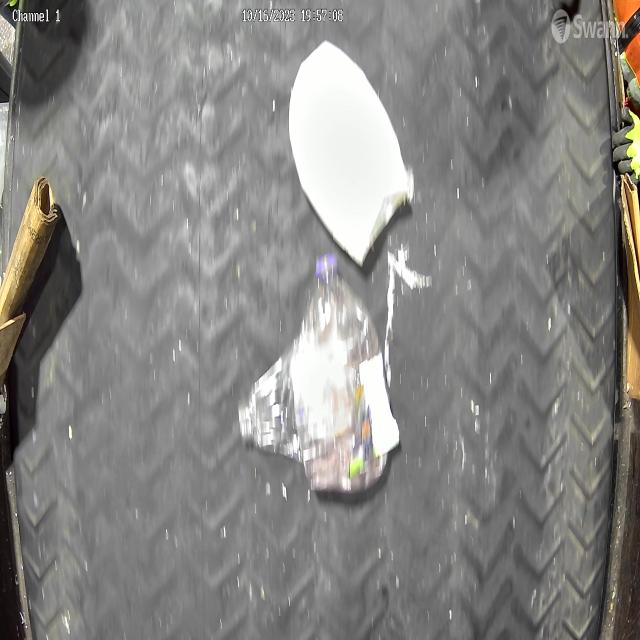milk_jug: (286, 36, 414, 265)
plastic_bottle: (291, 251, 401, 507), (234, 345, 303, 462)
